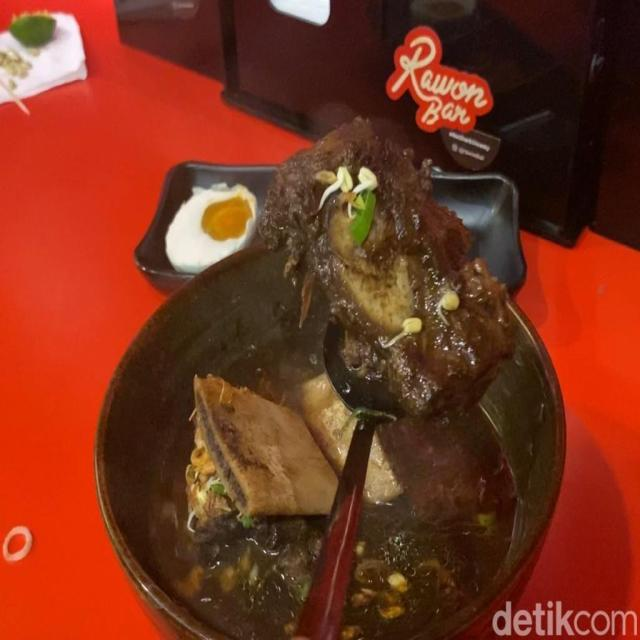Rawon: (171, 328, 514, 640)
